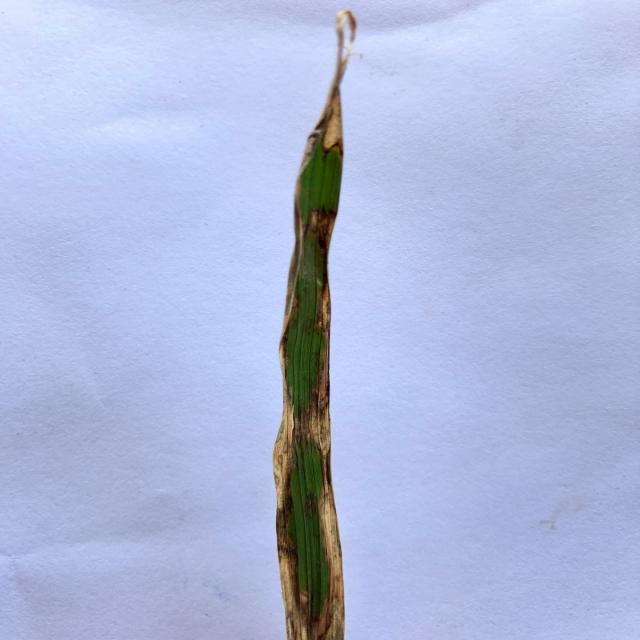Leaf Blight: (273, 95, 344, 640)
